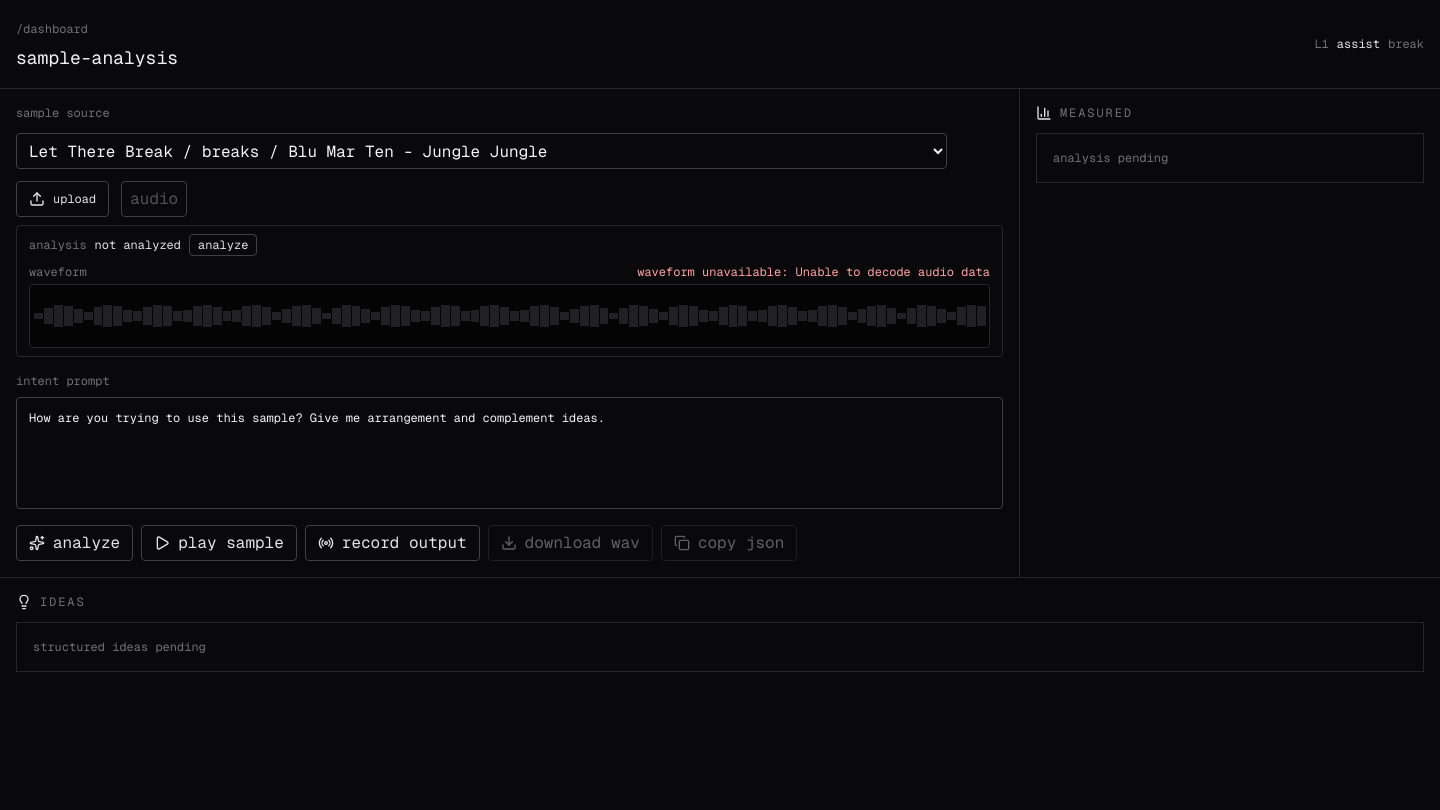
Test case: SampleAnalysisClient › auditions the full current source sample and exposes a stop state
Click the button "play sample".
click(219, 543)  # box [141,525,297,561]
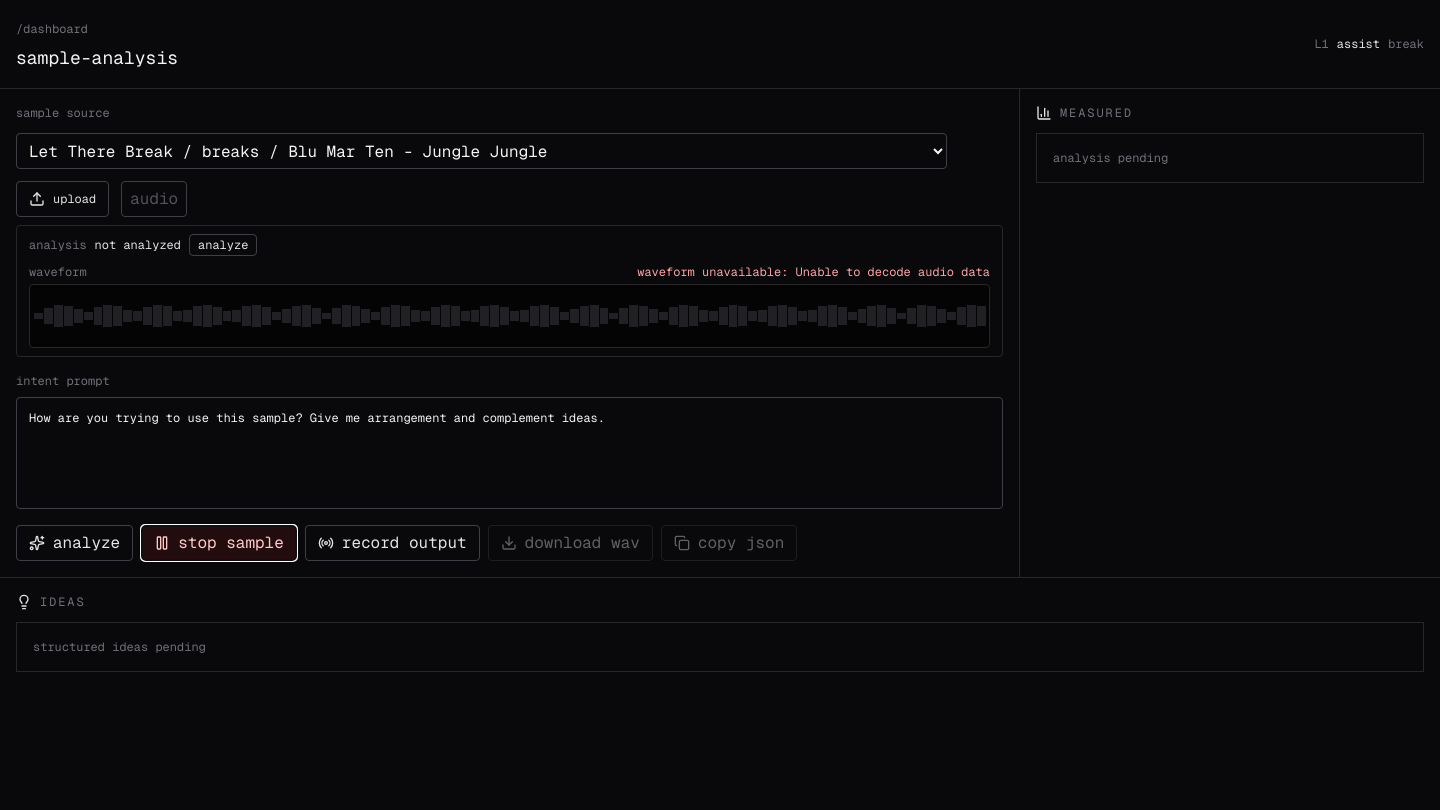
Result: the button "stop sample" is shown
Click the button "stop sample".
click(219, 543)  # box [141,525,297,561]
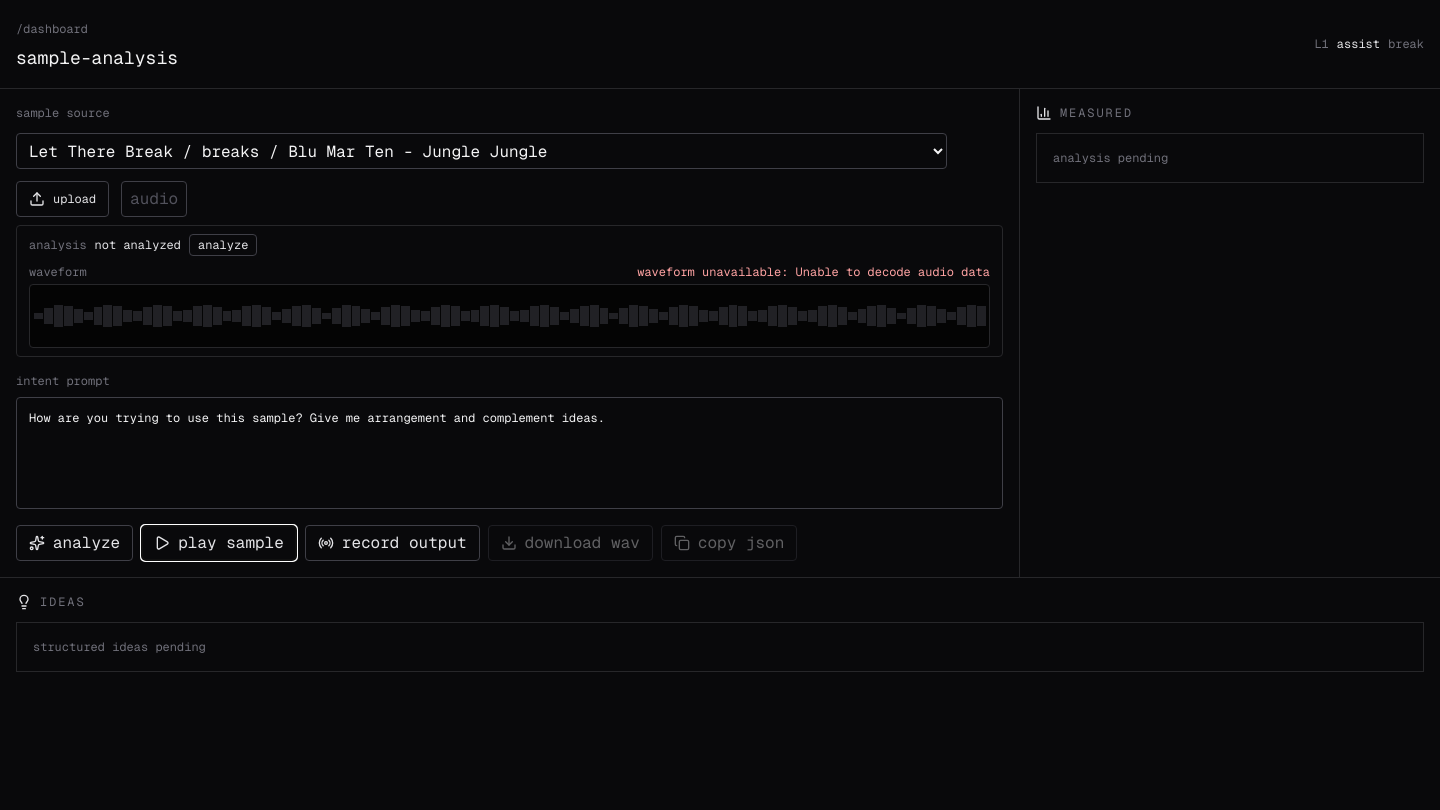
Result: the button "play sample" is shown at [141,525,297,561]
